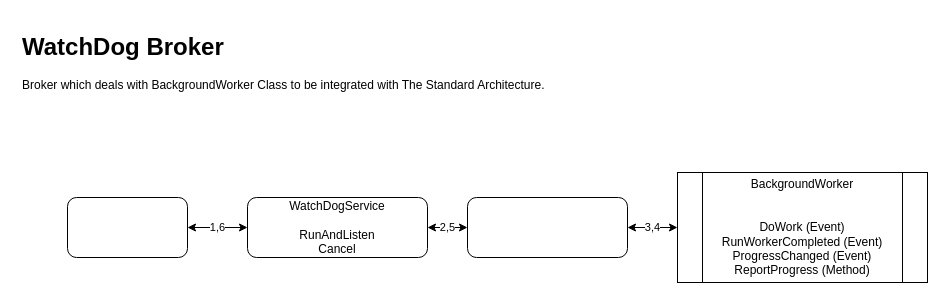
The diagram is 945 pixels wide and 300 high, and some of its shapes have lost their labels. Here are the shapes that lost their labels. From the top down, the centre of each, then its label:
At pixel 127 227: "Orchestration Service".
At pixel 547 227: "WatchDogBroker RunAndListen Cancel".
